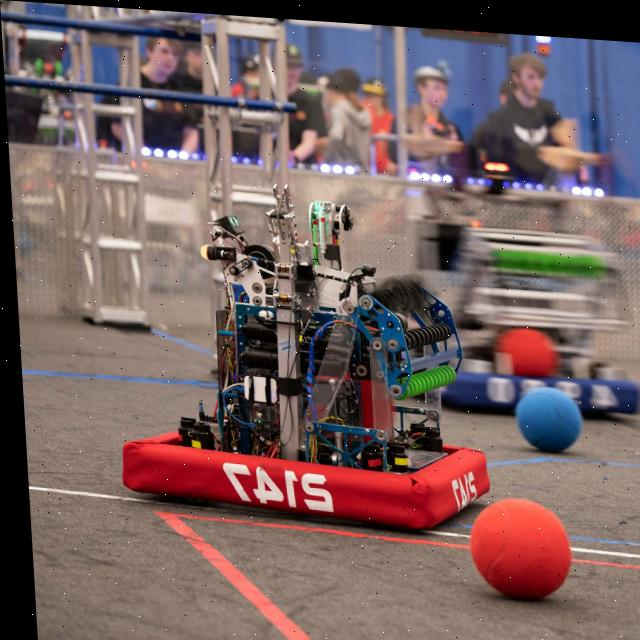robot: (102, 170, 489, 534), (386, 212, 639, 413)
